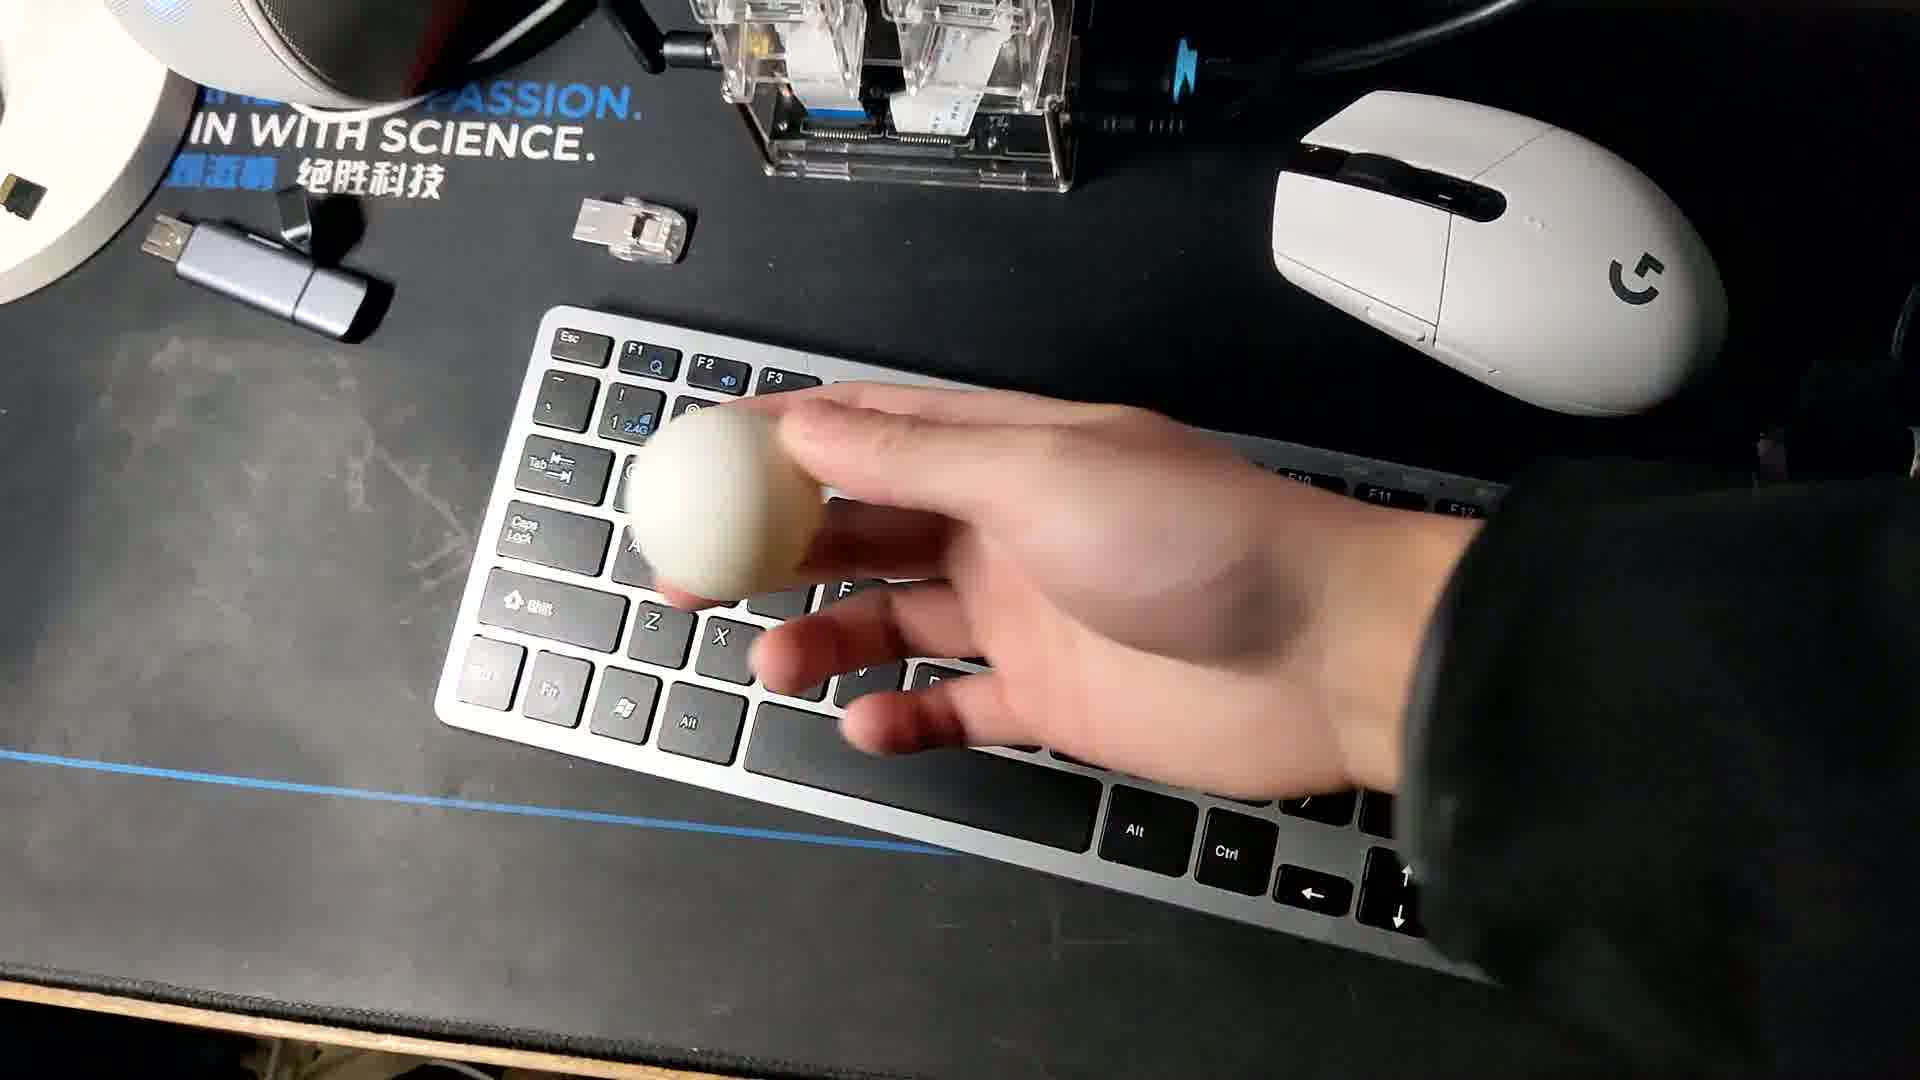Ball: (620, 407, 818, 597)
